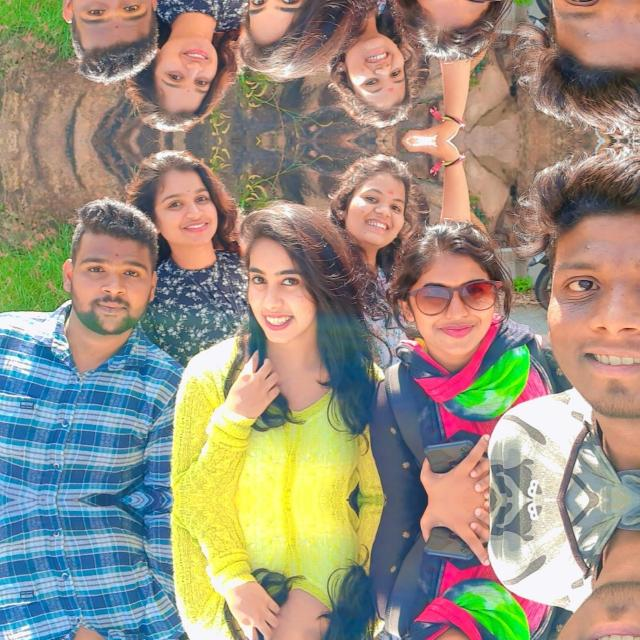person: (12, 176, 185, 500), (210, 202, 386, 500), (518, 169, 640, 499), (209, 499, 386, 640), (11, 499, 184, 640), (406, 238, 508, 474), (11, 0, 184, 104), (147, 144, 243, 324), (518, 500, 639, 640), (209, 0, 386, 77), (518, 0, 639, 111), (147, 0, 243, 136), (405, 525, 508, 640), (326, 141, 419, 263), (326, 17, 419, 139), (405, 0, 508, 42)
